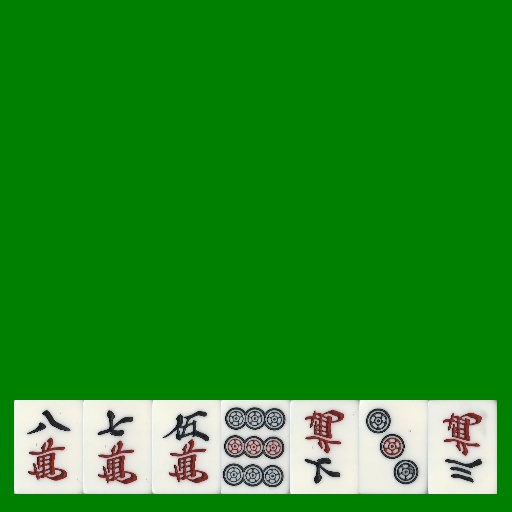3m: (428, 400, 497, 494)
3p: (359, 400, 428, 494)
5m: (152, 400, 221, 494)
7m: (83, 400, 152, 494), (290, 400, 359, 494)
8m: (14, 400, 83, 494)
9p: (221, 400, 290, 494)
